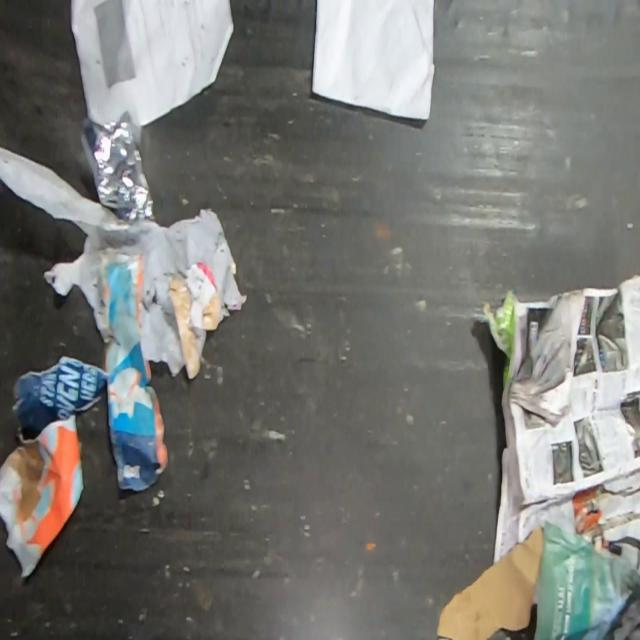cardboard: (436, 524, 545, 639)
metal: (76, 105, 156, 225)
soft_plastic: (0, 146, 249, 378)
